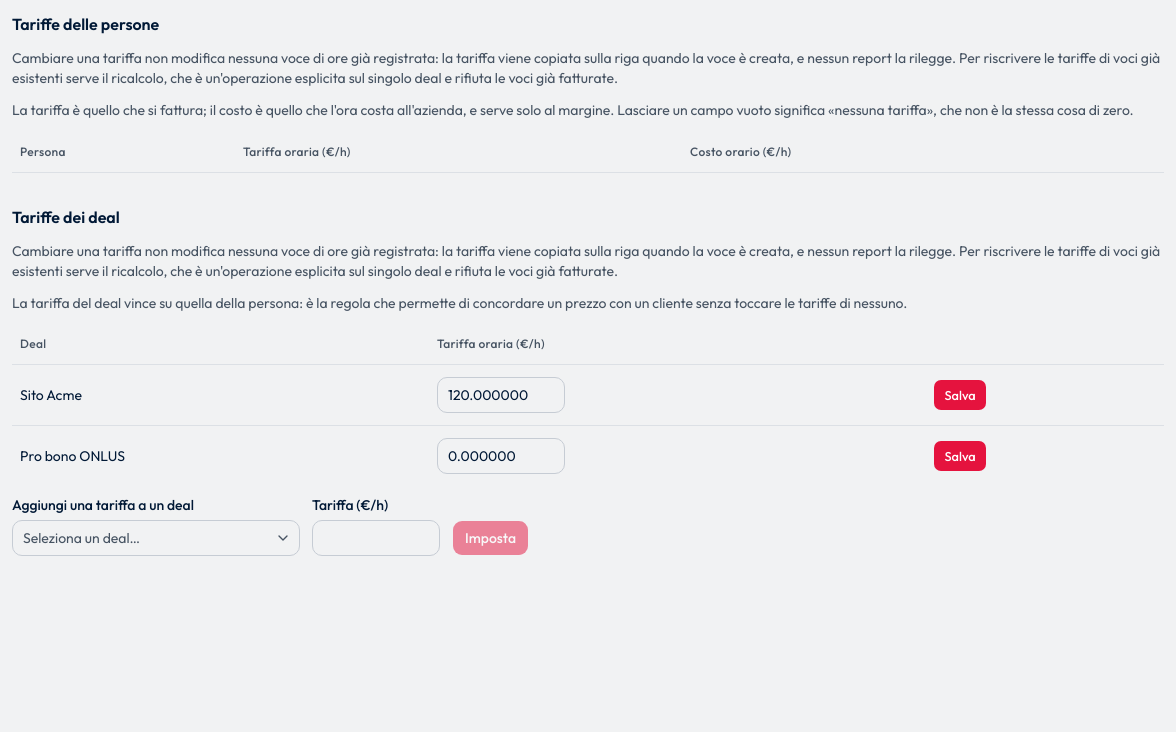
Test: RatesPanel › treats a zero deal rate as a rate, not as the absence of one
Check: the number field named "Tariffa oraria del deal Pro bono ONLUS" holds "0", box [437,438,565,474]
Click the dropdown named "aggiungi una tariffa": coordinates (82, 538) [12,520,300,556]
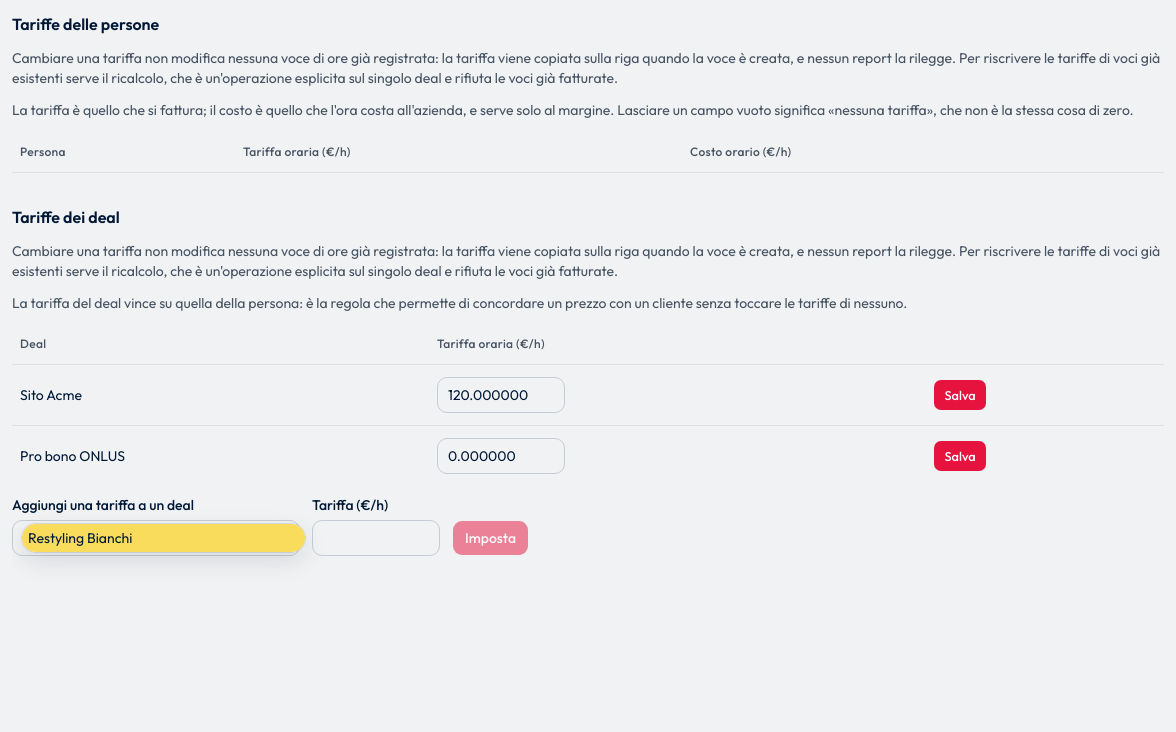
Check: the option "Restyling Bianchi" is shown, box [22,524,305,552]
